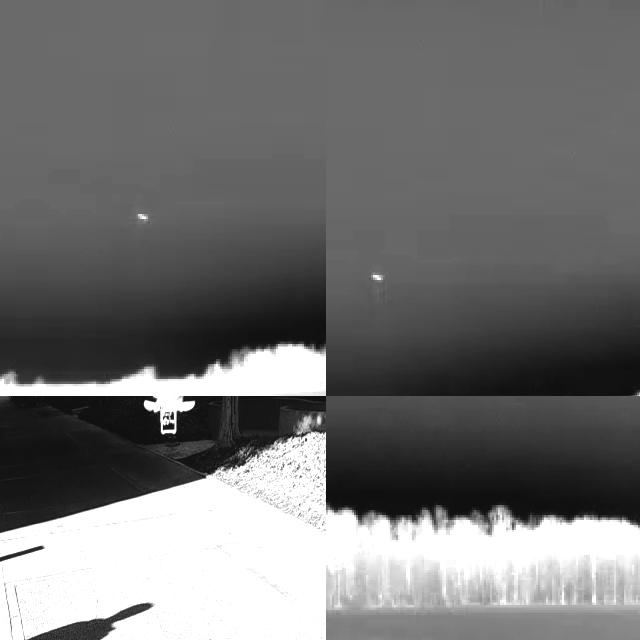1: (122, 202, 164, 244), (358, 261, 398, 304)
drone: (140, 396, 195, 436)
